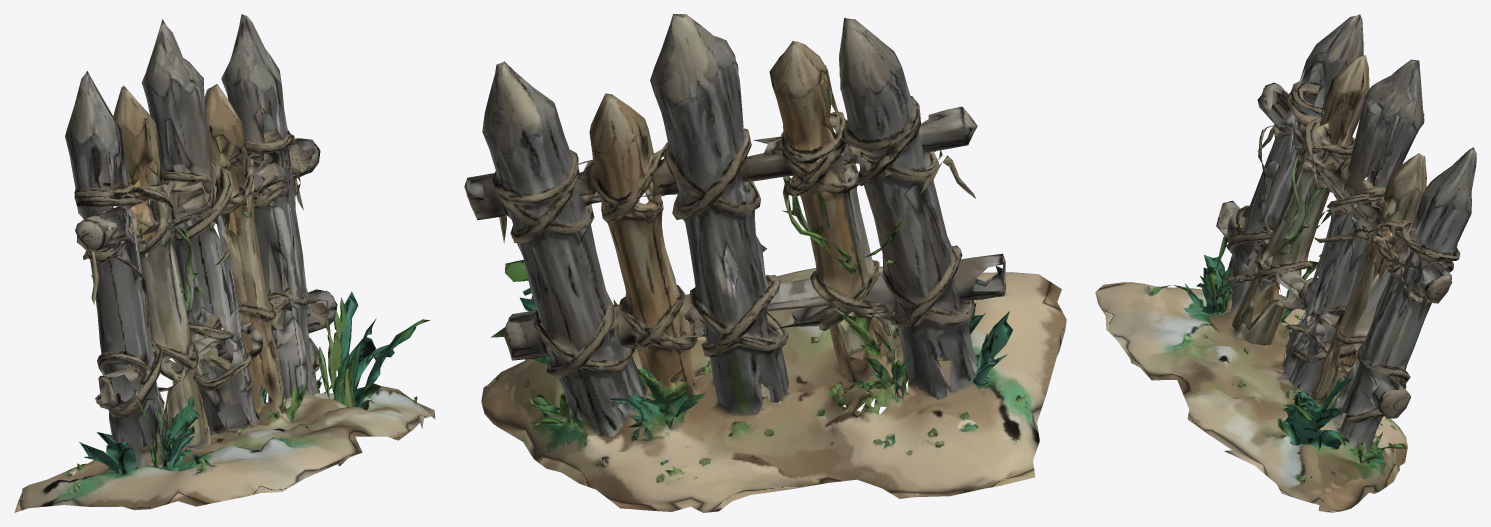
Rendered from sw-palisade.glb.
3 views of the same model, side by side, from view 1: azimuth 30°, elevation 25°; view 2: azimuth 150°, elevation 25°; view 3: azimuth 270°, elevation 25° (orthographic). The views are drawn at different scales.
Parts seen in each view (by area): view 1: geometry_0; view 2: geometry_0; view 3: geometry_0.
Part boxes in pixels (box(x1,y1,x2,y2)): geometry_0: box(14, 14, 435, 512); geometry_0: box(464, 14, 1066, 512); geometry_0: box(1095, 14, 1476, 512).
Size of the model in its own units: 0.9001 by 0.8402 by 0.7647.
1 material, 1 textured.
